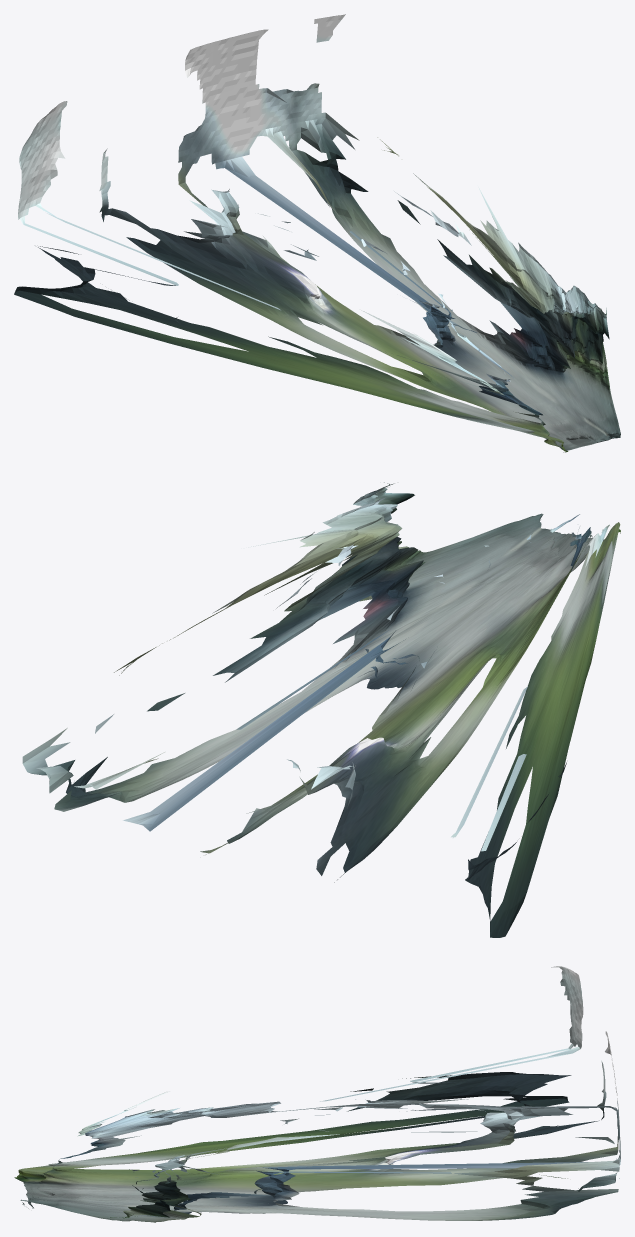
The picture shows the model from 3 angles, top to bottom: view 1: azimuth 30°, elevation 25°; view 2: azimuth 150°, elevation 25°; view 3: azimuth 270°, elevation 25°; orthographic projection. The views are drawn at different scales.
Visible parts, largest first — view 1: defaultobject; view 2: defaultobject; view 3: defaultobject.
Part boxes in pixels (bbox=[...]): defaultobject: bbox=[14, 14, 620, 452]; defaultobject: bbox=[22, 482, 620, 937]; defaultobject: bbox=[14, 966, 620, 1222].
Size of the model in its own units: 26.43 by 12.67 by 45.28.
1 material, 1 textured.
